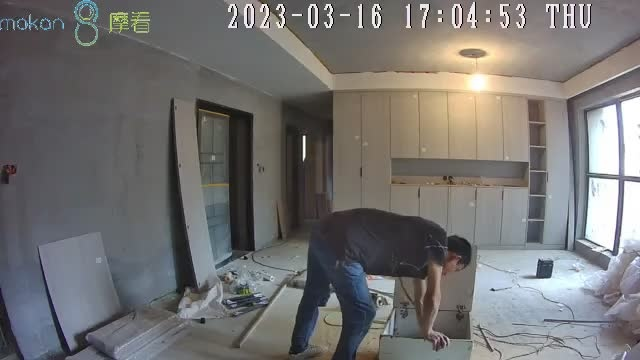people: (287, 208, 471, 360)
window: (581, 95, 640, 262)
